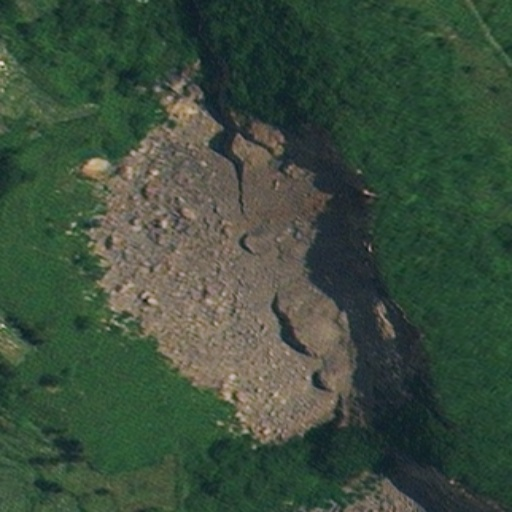landslide: (98, 94, 351, 441)
